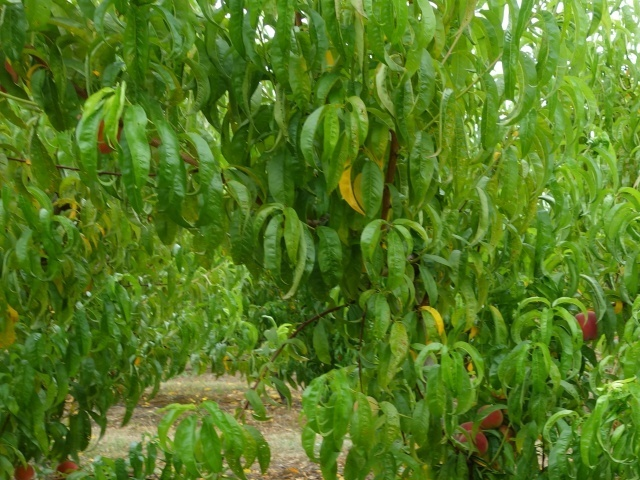peach: (90, 115, 122, 159), (568, 310, 602, 341), (455, 427, 489, 456), (476, 403, 506, 432), (495, 417, 514, 443)
